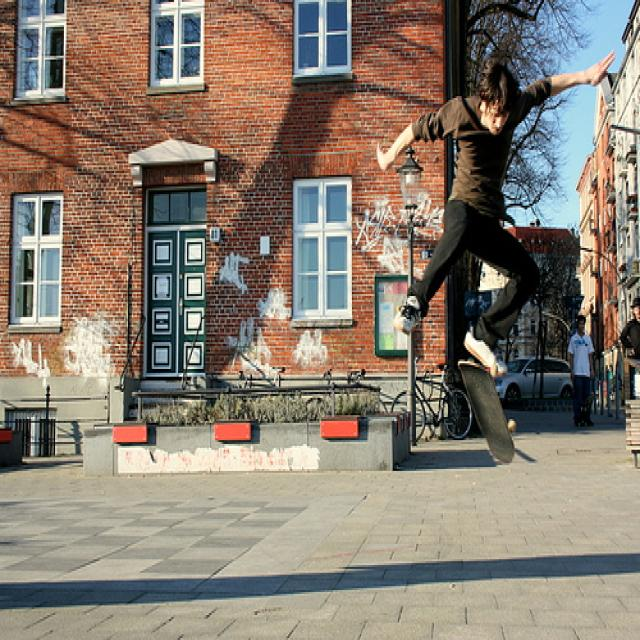Vehicle: (496, 355, 573, 401)
